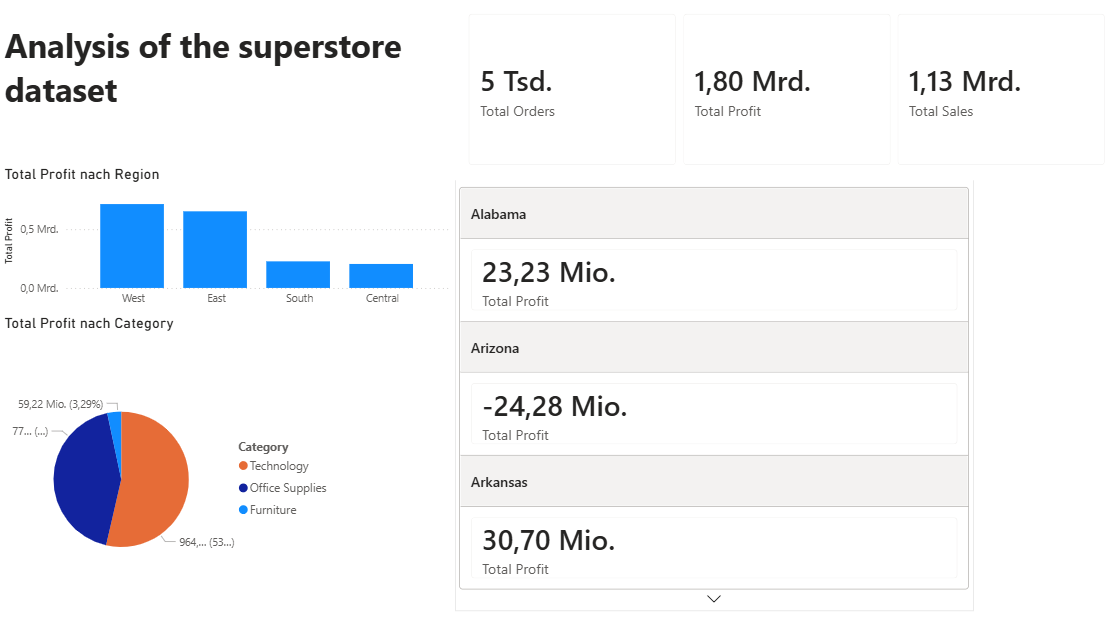

The dashboard page shown, as its layout file describes it:
{"tool":"powerbi","page":{"name":"Seite 1","canvas":[1280,720],"ordinal":1},"visuals":[{"type":"pieChart","fields":{"Category":["superstore.Category"],"Y":["superstore.Total Profit"]},"box":[0,360.6,387.3,359.2],"z":0},{"type":"cardVisual","fields":{"Rows":["superstore.State"],"Data":["superstore.Total Profit"]},"box":[520,190,592.9,510],"z":1},{"type":"cardVisual","fields":{"Data":["superstore.Total Orders","superstore.Total Profit","superstore.Total Sales"]},"box":[518.3,0,762,207],"z":2},{"type":"textbox","box":[0,22.5,488.7,115.5],"z":3},{"type":"clusteredColumnChart","fields":{"Y":["superstore.Total Profit"],"Category":["superstore.Region"]},"box":[0,190.1,518.3,170.4],"z":4}]}

Visuals, with their boxes in screenshot pixels (x1, y1, x2, y2), scaled from the page's 1280x720 canvas onto the 1117x626 screenshot:
pieChart - superstore.Category x superstore.Total Profit: <bbox>0, 314, 338, 625</bbox>
cardVisual - superstore.State x superstore.Total Profit: <bbox>454, 165, 971, 609</bbox>
cardVisual - superstore.Total Orders x superstore.Total Profit: <bbox>452, 0, 1116, 180</bbox>
textbox: <bbox>0, 20, 426, 120</bbox>
clusteredColumnChart - superstore.Total Profit x superstore.Region: <bbox>0, 165, 452, 313</bbox>
